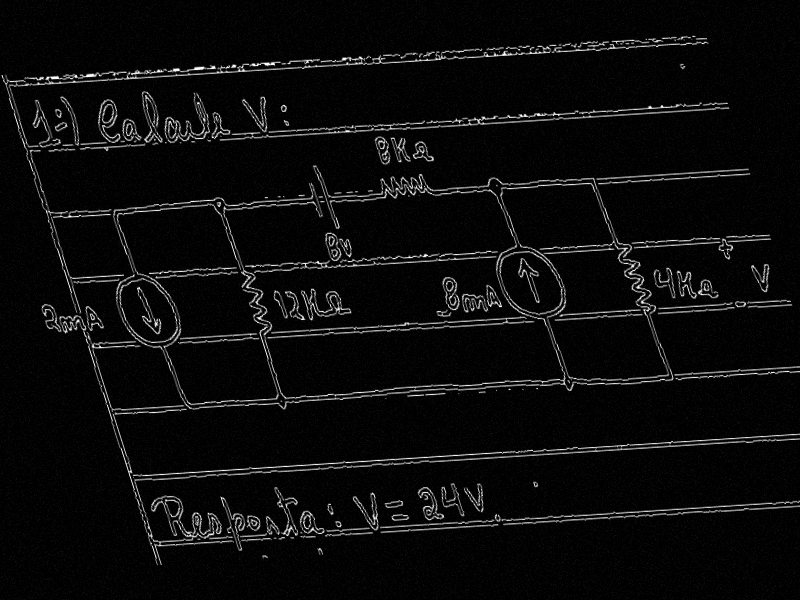-: (381, 497, 408, 510), (388, 511, 412, 525), (731, 297, 751, 311), (50, 120, 71, 133)
1: (23, 97, 64, 151), (270, 288, 291, 321)
2: (412, 483, 447, 524), (280, 287, 309, 323), (37, 301, 63, 334)
4: (646, 263, 681, 300), (436, 482, 469, 519)
8: (436, 272, 467, 311), (319, 229, 349, 267), (370, 133, 396, 167)
A: (81, 304, 107, 334), (480, 282, 505, 312)
V: (350, 488, 389, 533), (239, 93, 278, 134), (746, 257, 779, 295), (461, 482, 493, 516), (337, 235, 357, 261)
k: (297, 285, 327, 321), (670, 266, 700, 300), (388, 135, 414, 163)
m: (457, 291, 492, 314), (55, 312, 88, 335)
